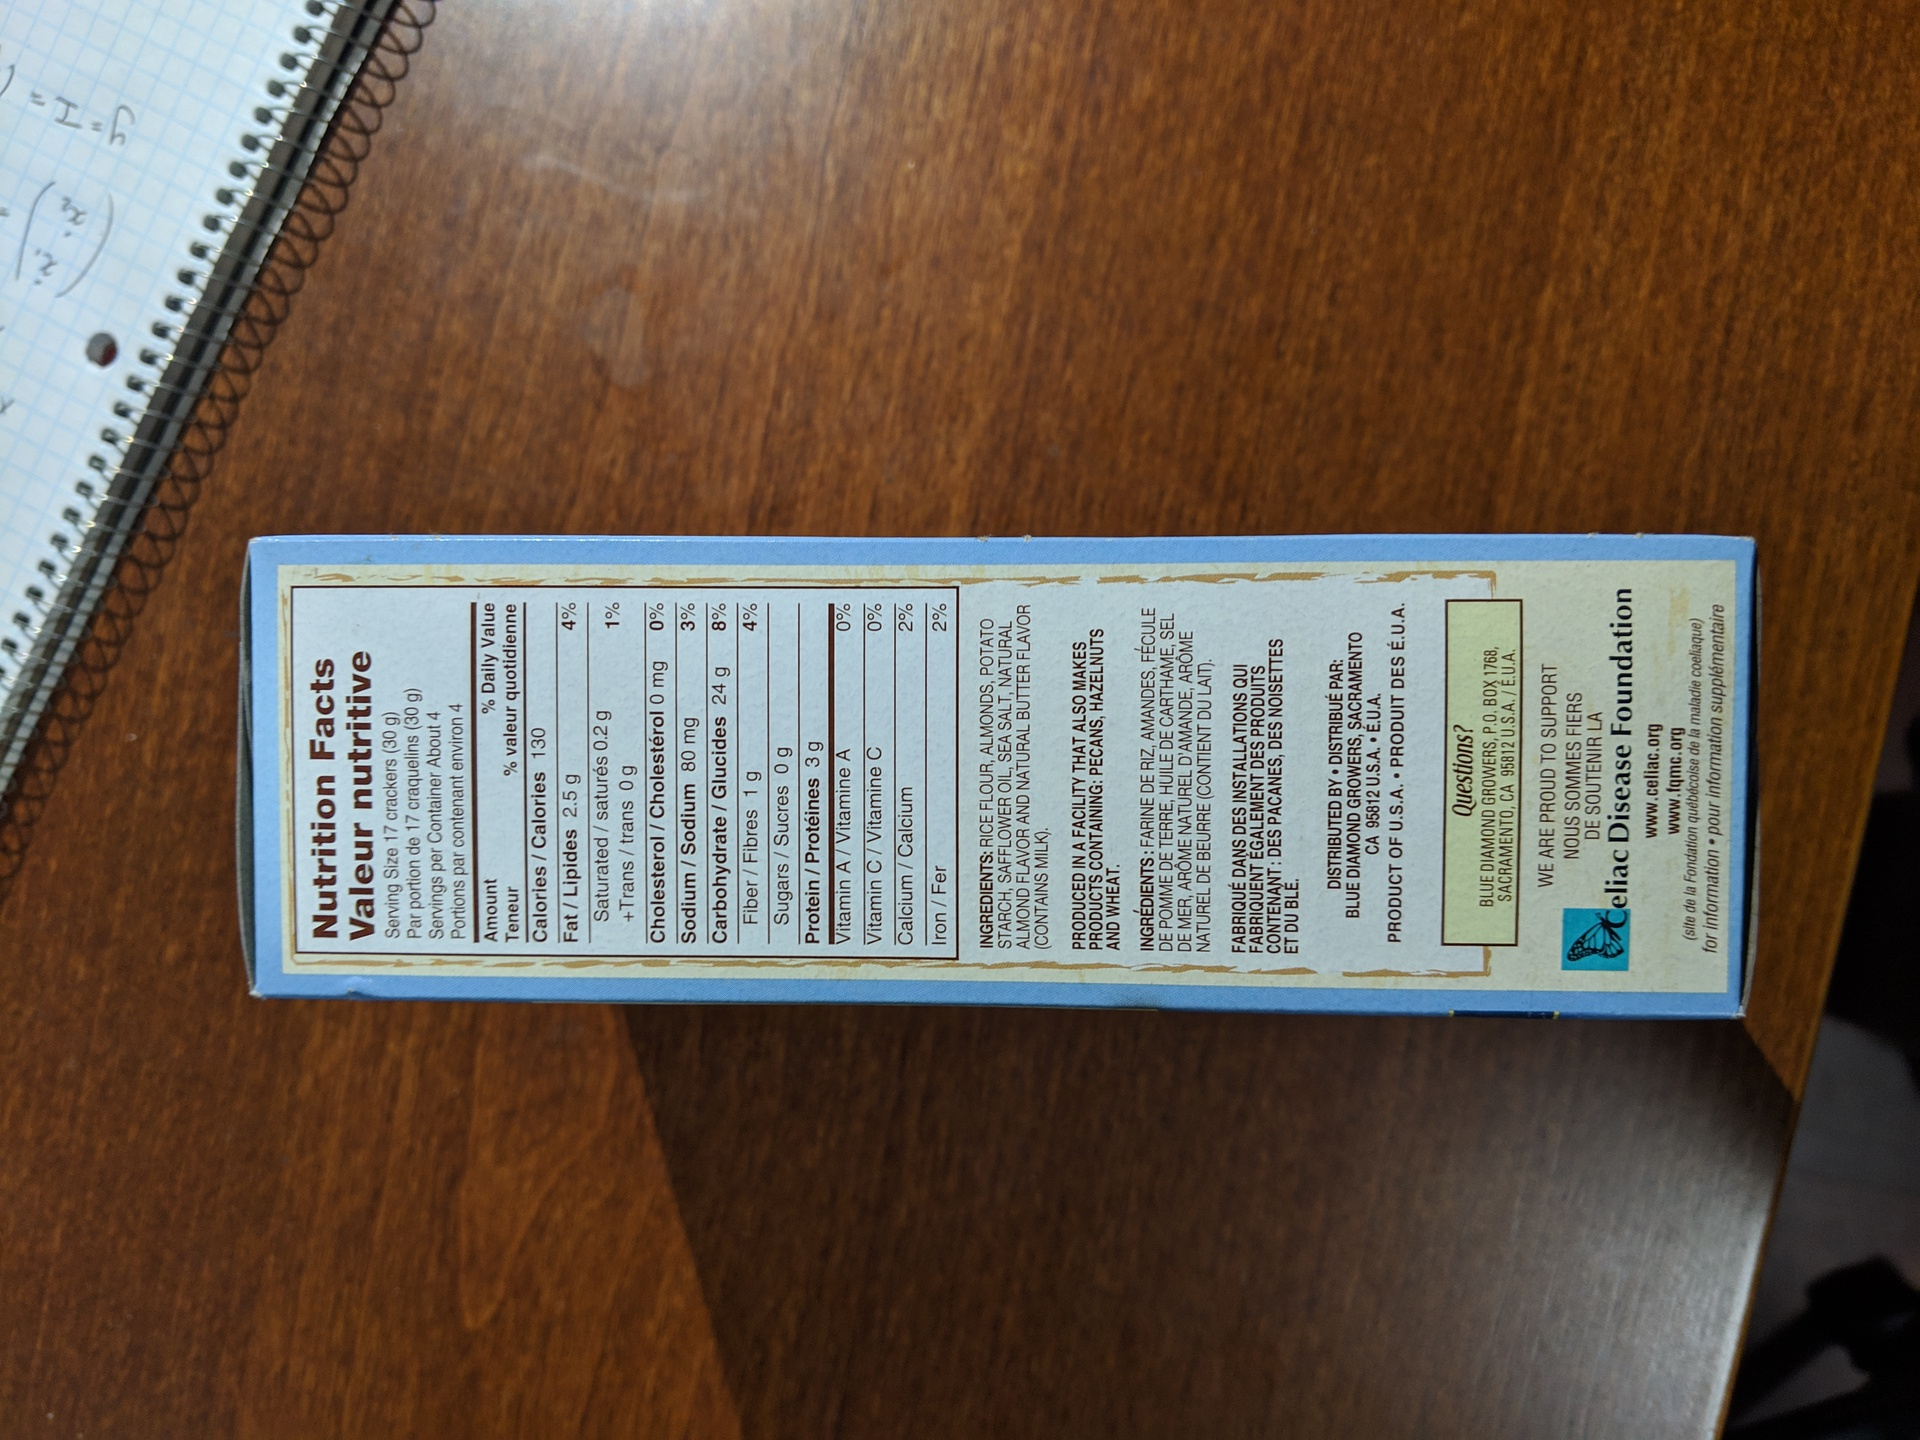blue_diamond_nut_thins_almond_seasalt: (234, 540, 1752, 1009)
